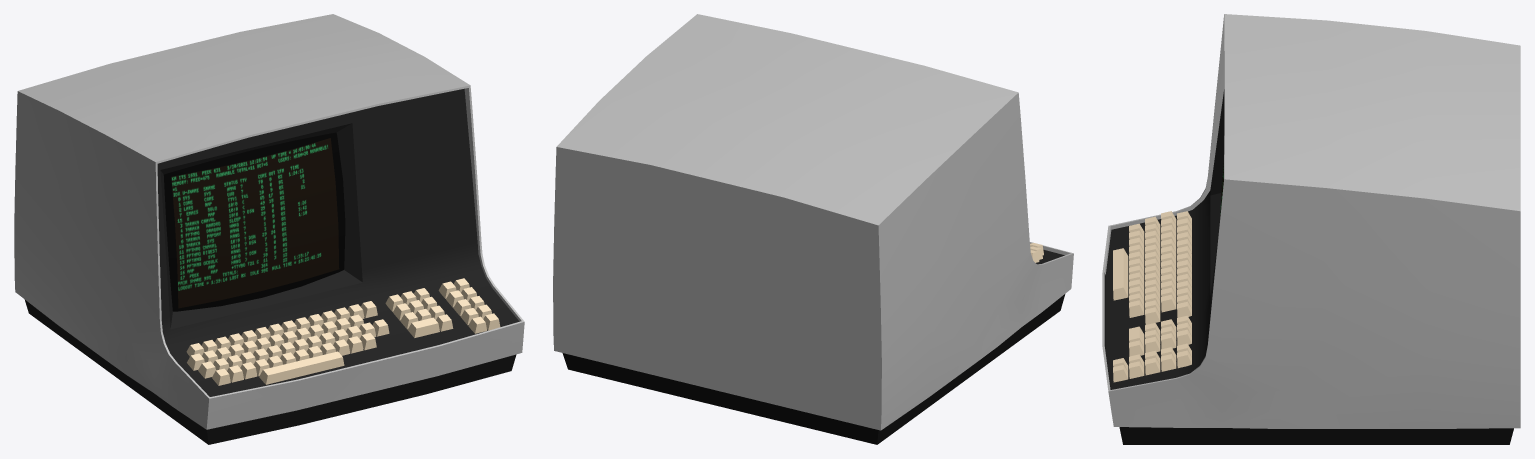
The model's file is datapoint.FBX.
The picture shows the model from 3 angles, left to right: view 1: azimuth 30°, elevation 25°; view 2: azimuth 150°, elevation 25°; view 3: azimuth 270°, elevation 25°; orthographic projection. The views are drawn at different scales.
Visible parts, largest first — view 1: Box243, Sphere003, datapoint3300, key_space; view 2: Box243, datapoint3300; view 3: Box243, datapoint3300, key_space.
Boxes of the visible parts, box(x1,y1,x2,y2) form: Box243: box(14, 14, 524, 429); Sphere003: box(163, 132, 345, 311); datapoint3300: box(24, 299, 516, 444); key_space: box(259, 351, 344, 384); Box243: box(553, 14, 1073, 430); datapoint3300: box(562, 294, 1065, 444); Box243: box(1102, 14, 1520, 428); datapoint3300: box(1119, 427, 1513, 444); key_space: box(1113, 248, 1128, 300).
Bounding box in the file's own units: 46.08 × 47.55 × 34.24.
